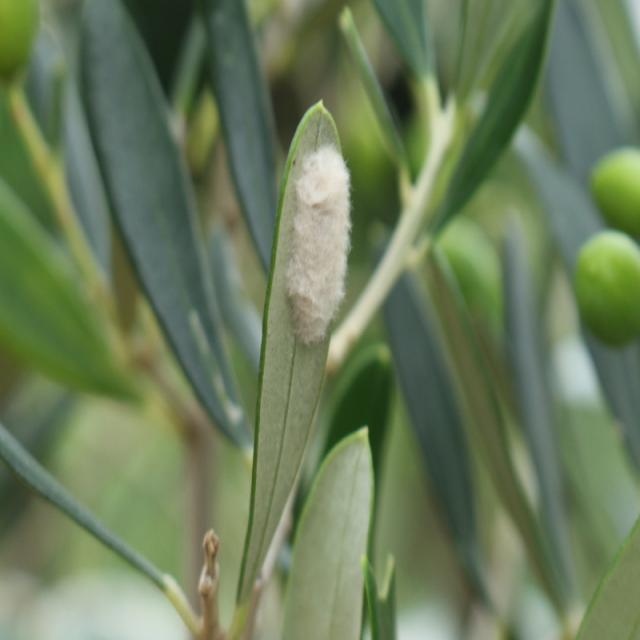Psyllid: (260, 113, 350, 443)
